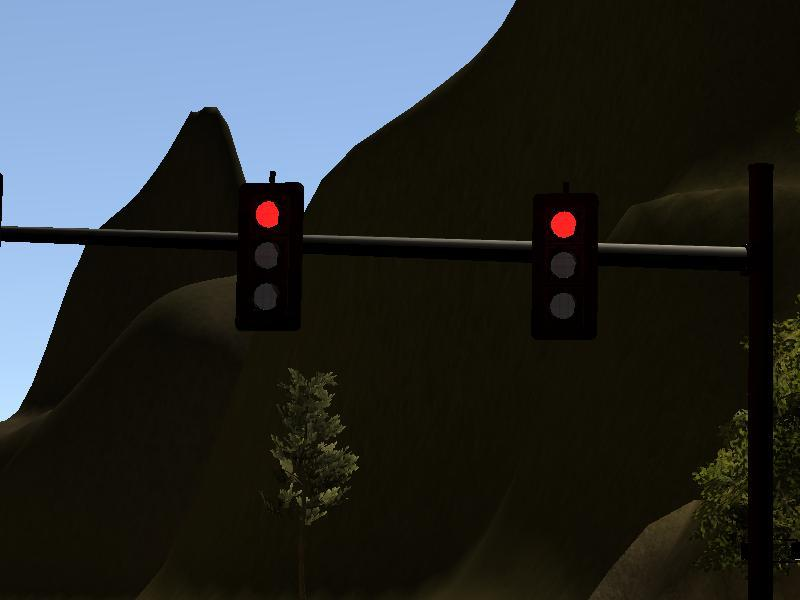Red: (243, 185, 301, 321), (539, 199, 596, 337)
